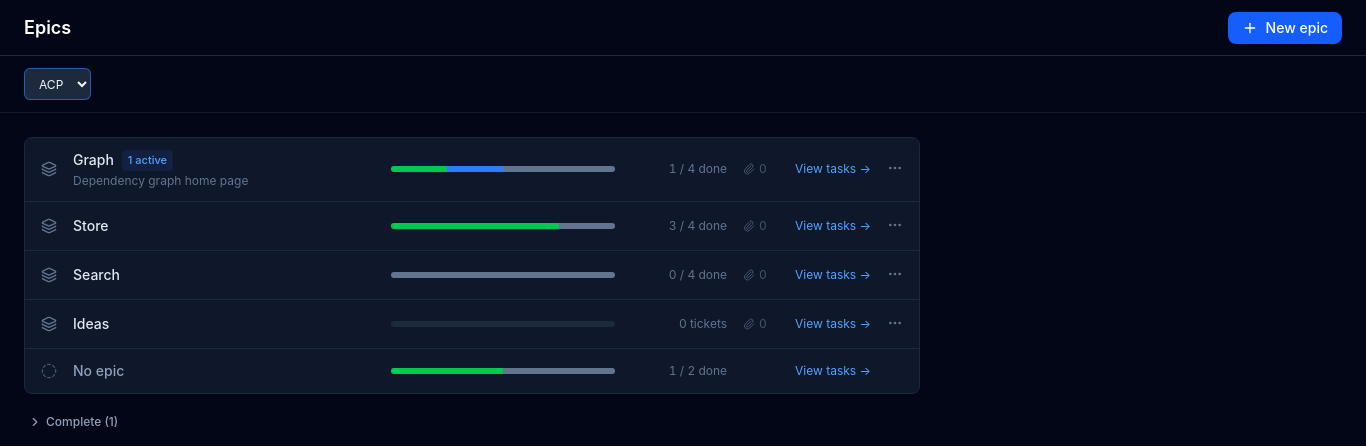
Scenario: Epics rows › closes the row menu on Escape and puts focus back on the ⋯ button
Click the button named "Actions for Store".
click(895, 224)  # box [883, 212, 907, 236]
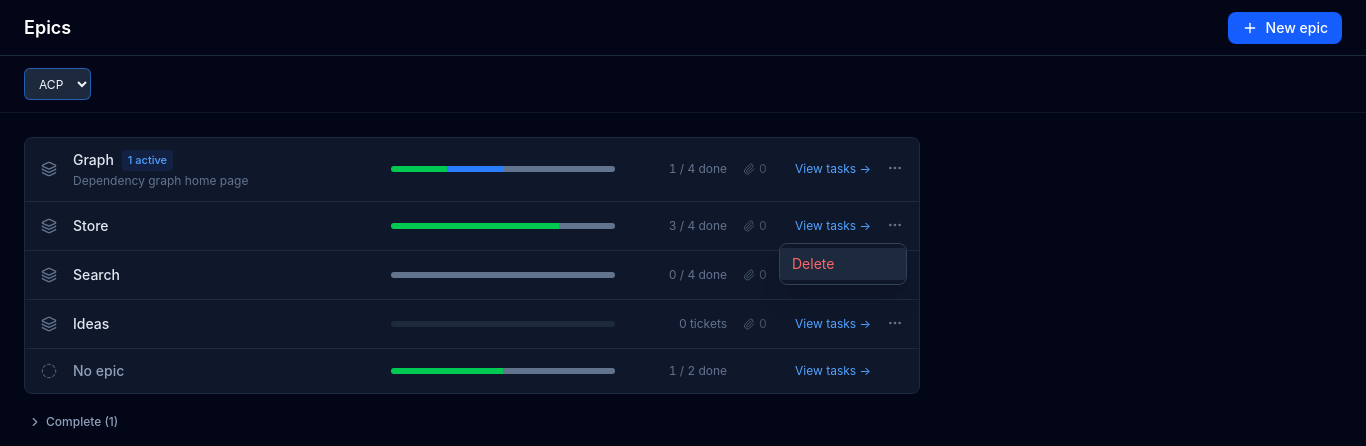
Press Escape in the button "Delete", box [780, 248, 906, 280]
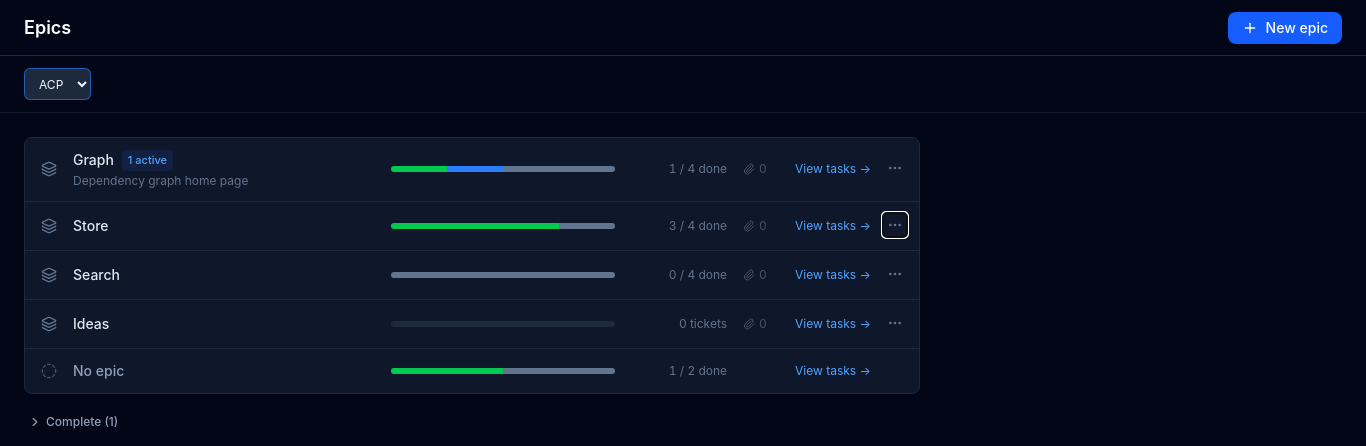
Expected: the button "Delete" is gone
Expected: the button named "Actions for Store" is collapsed, [883, 212, 907, 236]
